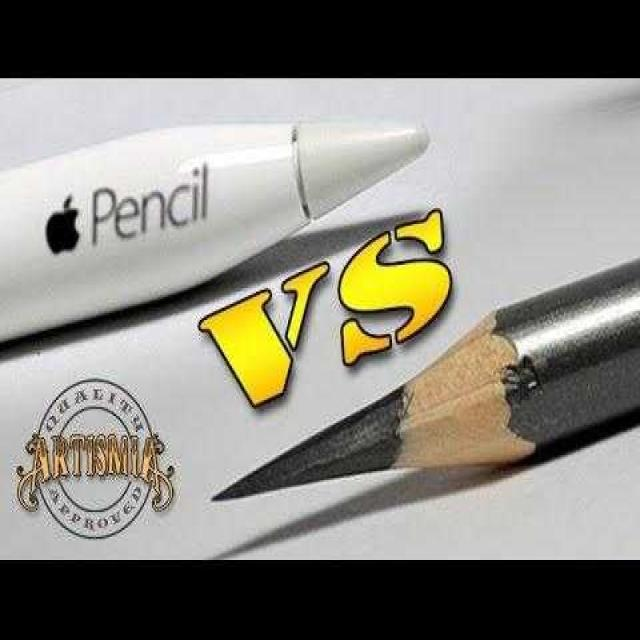pencil: (187, 210, 639, 517)
